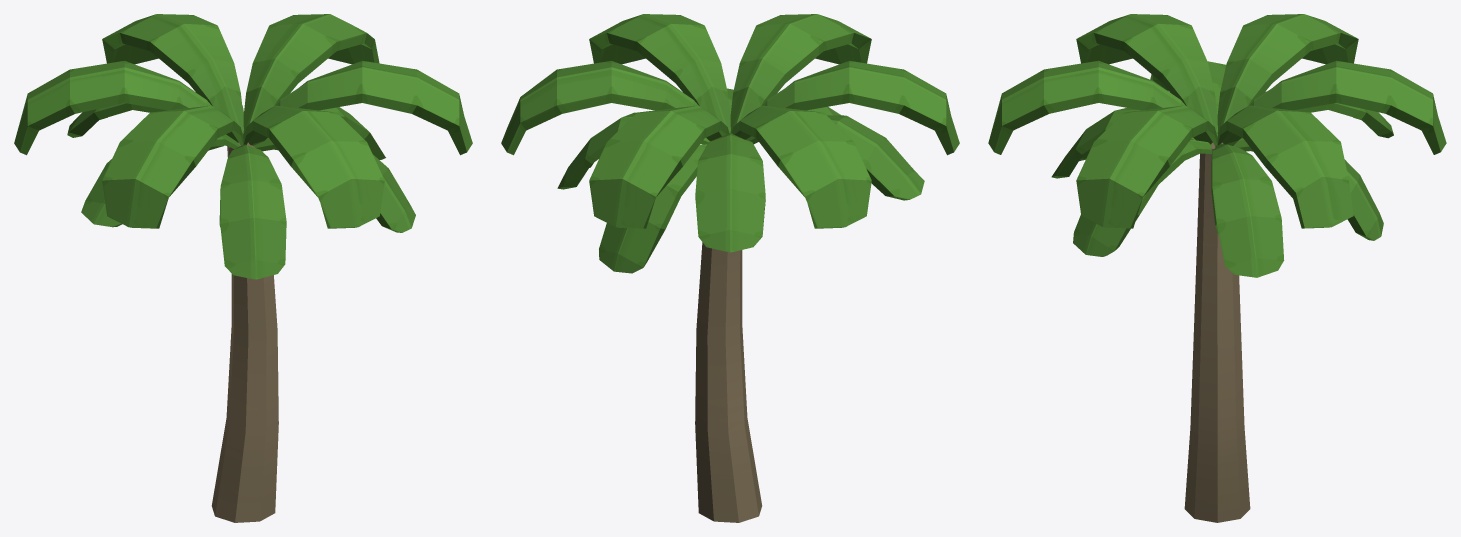
Rendered from Dino_Tree_A.fbx.
3 views of the same model, side by side, from view 1: azimuth 30°, elevation 25°; view 2: azimuth 150°, elevation 25°; view 3: azimuth 270°, elevation 25° (orthographic).
Parts seen in each view (by area): view 1: Dino_Tree_A_mesh; view 2: Dino_Tree_A_mesh; view 3: Dino_Tree_A_mesh.
Boxes of the visible parts, x1=… form: Dino_Tree_A_mesh: x1=14, y1=14, x2=472, y2=522; Dino_Tree_A_mesh: x1=501, y1=14, x2=959, y2=522; Dino_Tree_A_mesh: x1=988, y1=14, x2=1446, y2=522.
Size of the model in its own units: 34.48 by 41.13 by 38.07.
